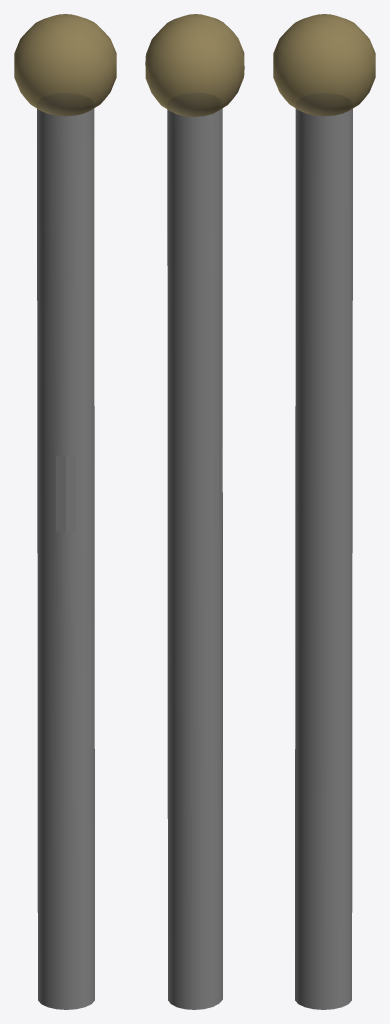
The model's file is Powerplant_Model_Prop_FinishLine_1.fbx.
The picture shows the model from 3 angles, left to right: view 1: azimuth 90°, elevation 25°; view 2: azimuth 150°, elevation 25°; view 3: azimuth 270°, elevation 25°; orthographic projection.
Visible parts, largest first — view 1: Cylinder028; view 2: Cylinder028; view 3: Cylinder028.
Boxes of the visible parts, x1,y1,x2,y2 form: Cylinder028: [14, 14, 116, 1009]; Cylinder028: [145, 14, 244, 1009]; Cylinder028: [273, 14, 375, 1009].
Size of the model in its own units: 5.73 by 62.74 by 5.95.
